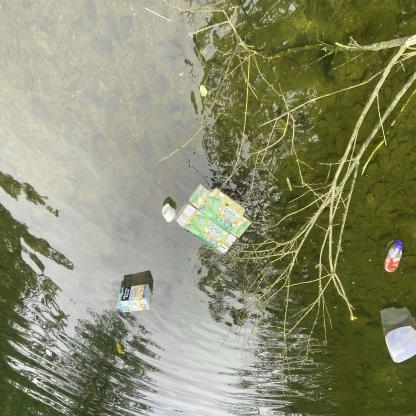Plastic: (381, 322, 416, 366), (381, 235, 407, 279)
Trash: (160, 198, 178, 224)
